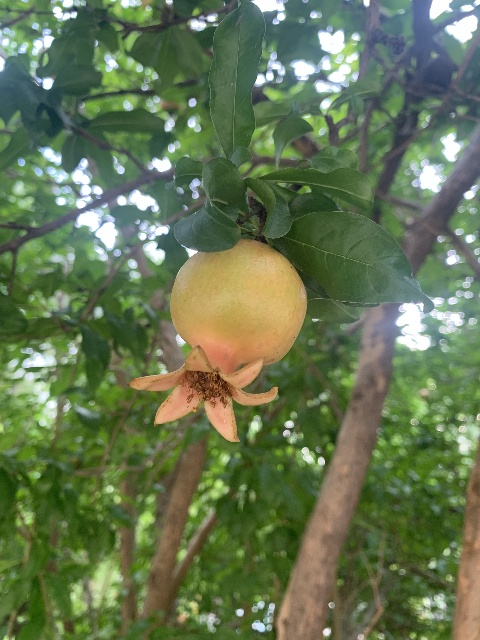mid-growth: (127, 239, 307, 444)
